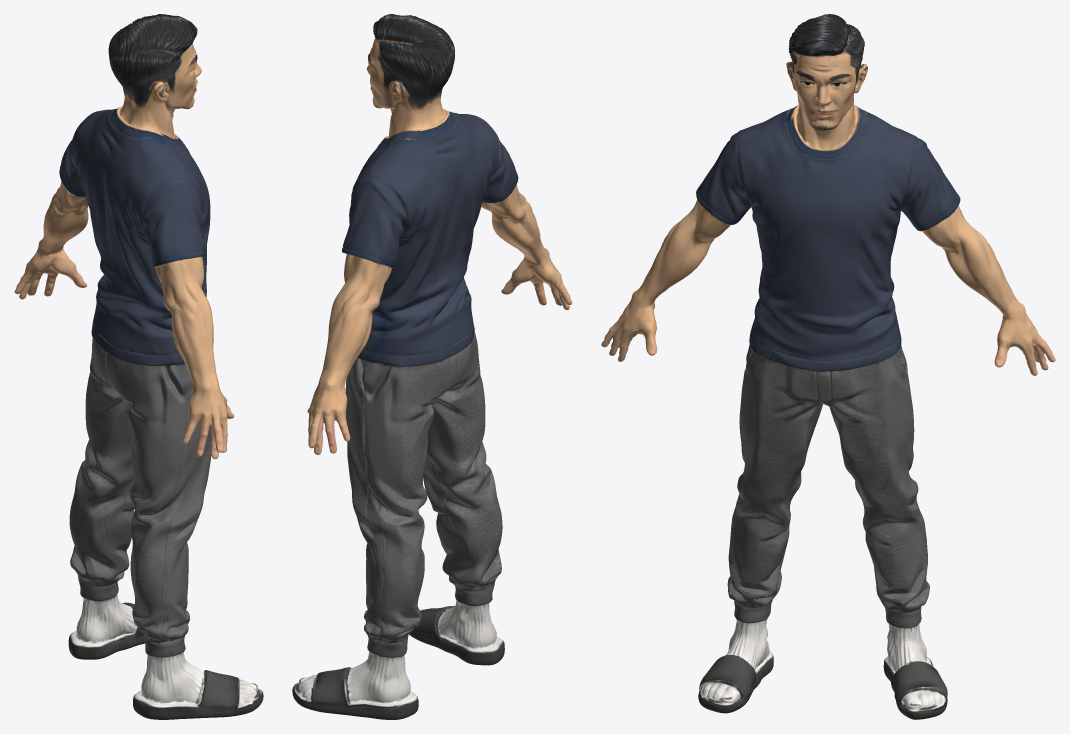
The model's file is jinsoo_son_tripo.glb.
The picture shows the model from 3 angles, left to right: view 1: azimuth 30°, elevation 25°; view 2: azimuth 150°, elevation 25°; view 3: azimuth 270°, elevation 25°; orthographic projection.
Visible parts, largest first — view 1: tripo_node_d3a2b37d-6031-4c0b-abc2-dc0ec3797a61; view 2: tripo_node_d3a2b37d-6031-4c0b-abc2-dc0ec3797a61; view 3: tripo_node_d3a2b37d-6031-4c0b-abc2-dc0ec3797a61.
Part boxes in pixels (x1,y1,x2,y2): tripo_node_d3a2b37d-6031-4c0b-abc2-dc0ec3797a61: (14, 14, 263, 719); tripo_node_d3a2b37d-6031-4c0b-abc2-dc0ec3797a61: (292, 14, 572, 719); tripo_node_d3a2b37d-6031-4c0b-abc2-dc0ec3797a61: (601, 14, 1055, 719).
Size of the model in its own units: 0.2112 by 0.9795 by 0.602.
1 material, 1 textured.
